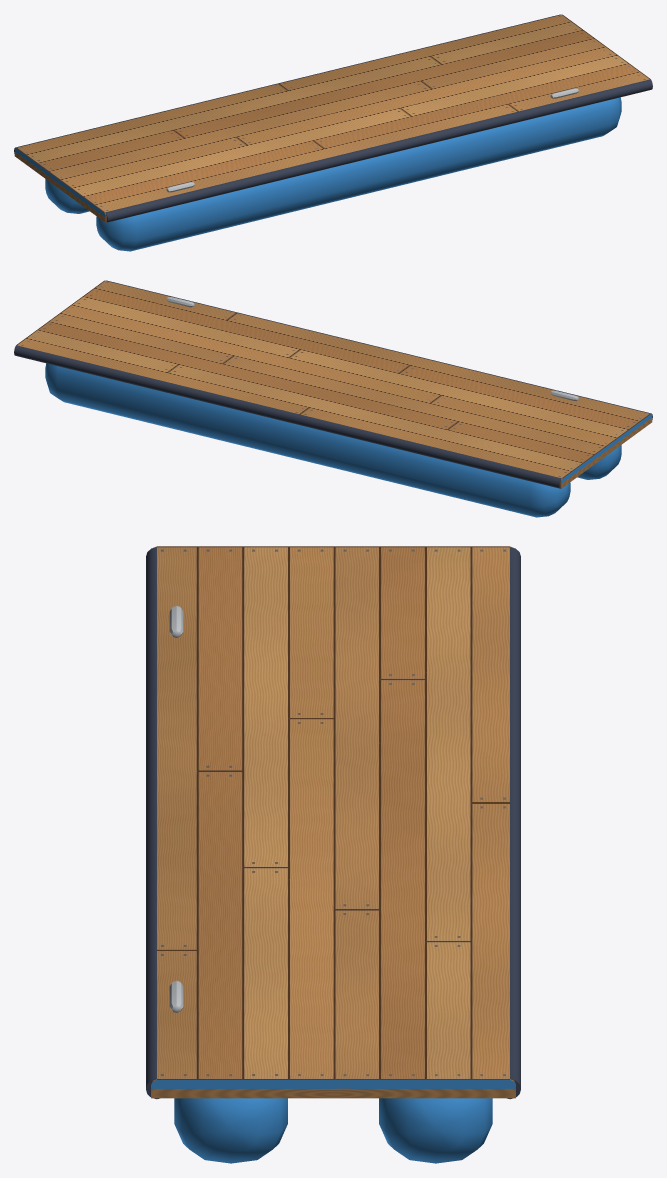
The model's file is SM_Pontoon.glb.
3 views of the same model, one above another, from view 1: azimuth 30°, elevation 25°; view 2: azimuth 150°, elevation 25°; view 3: azimuth 270°, elevation 25° (orthographic). The views are drawn at different scales.
Visible parts, largest first — view 1: SM_Pontoon; view 2: SM_Pontoon; view 3: SM_Pontoon.
Boxes of the visible parts, x1,y1,x2,y2 form: SM_Pontoon: [14, 14, 652, 251]; SM_Pontoon: [14, 280, 652, 517]; SM_Pontoon: [146, 546, 520, 1163].
Size of the model in its own units: 7.4 by 0.807 by 2.2.
Materials: 1 (1 with a texture image).
